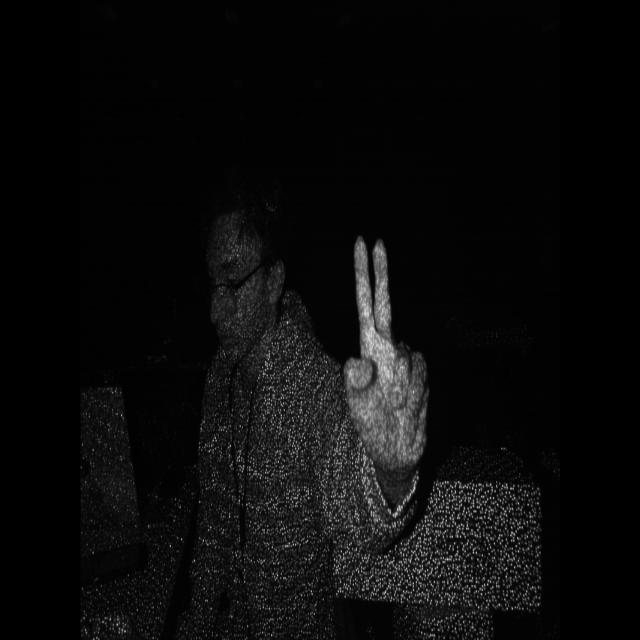K: (335, 215, 438, 480)
